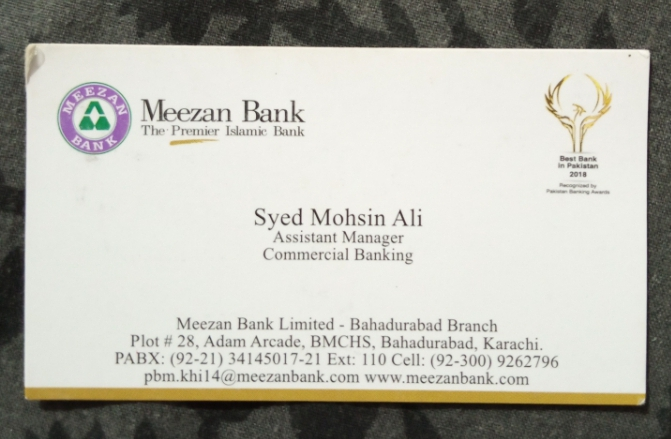alphabetical: (248, 197, 426, 232), (136, 93, 314, 124)
numerical: (429, 350, 561, 372)
